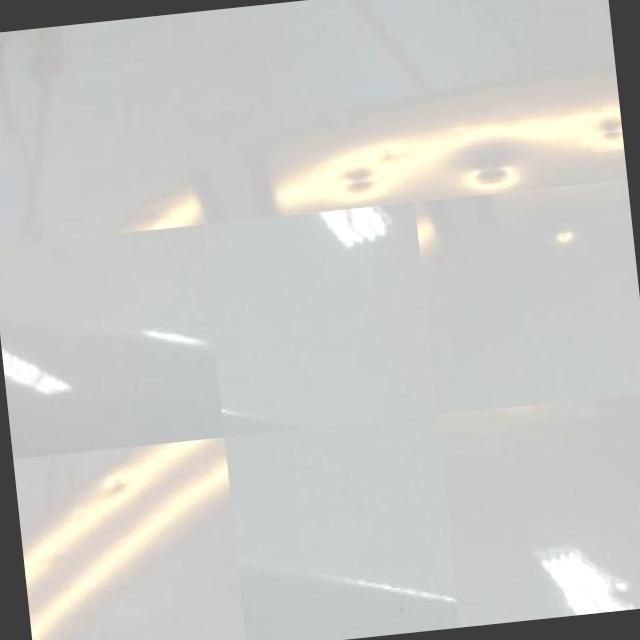dent: (456, 156, 522, 196), (337, 158, 378, 202), (584, 108, 624, 152), (375, 140, 414, 166), (103, 472, 130, 494), (552, 224, 576, 246)
